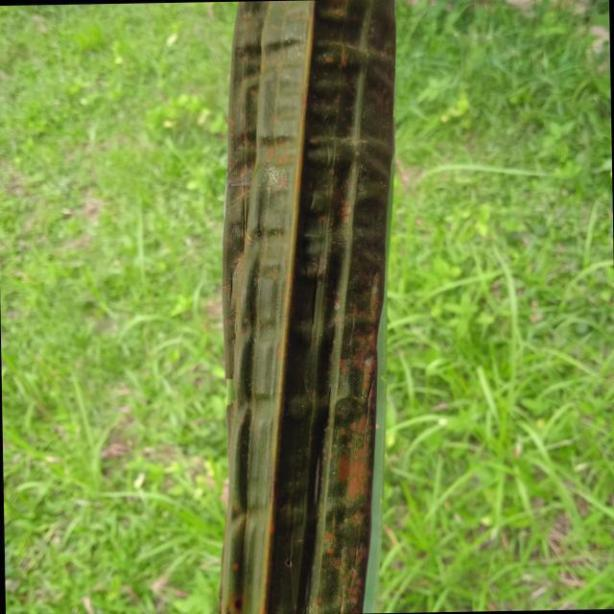Kalium: (219, 0, 397, 614)
